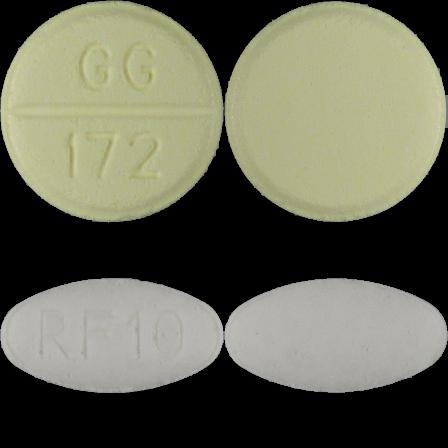54868-1866: (0, 0, 224, 224)
